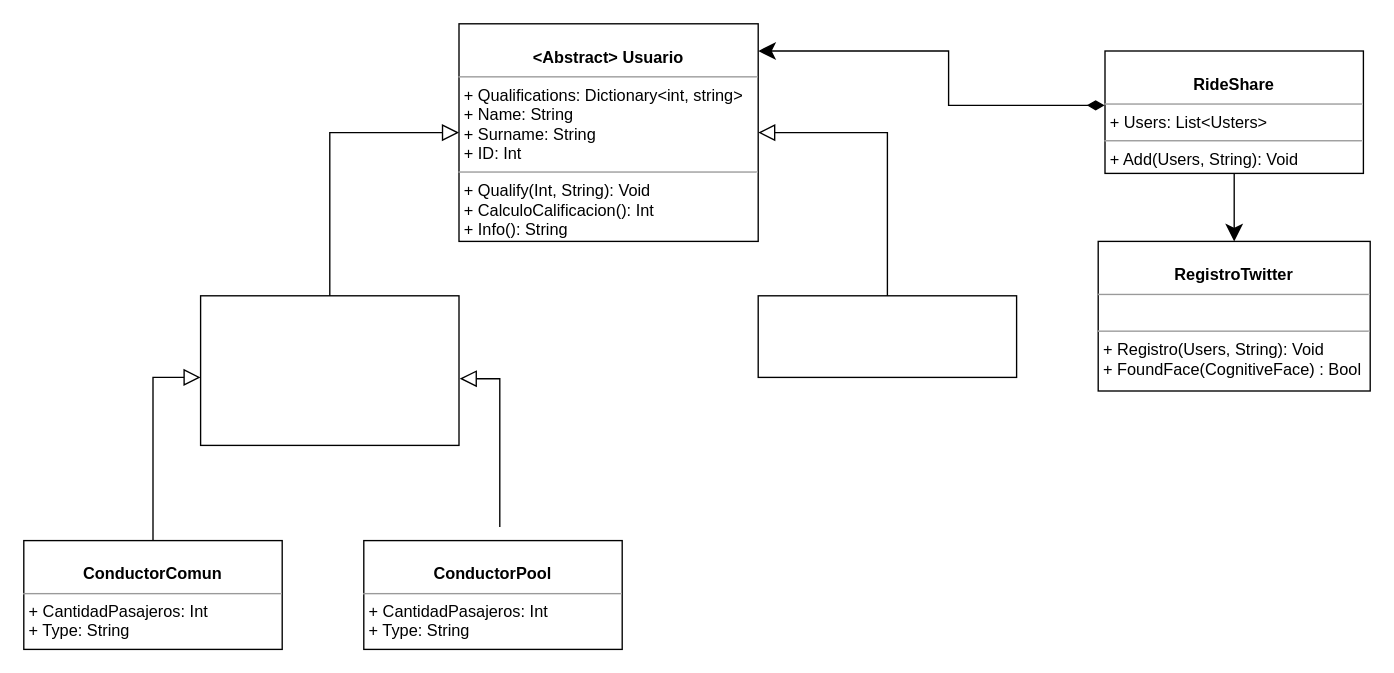
Some shapes in this 1394 by 673 pixel diagram are drawn without their labels. Here are the shapes that lost their labels. From the top down, the centre of each, then its label:
the point at 887,335: Pasajero
the point at 329,369: Conductor + Vehicle: String + Bio: String + Info(): String
